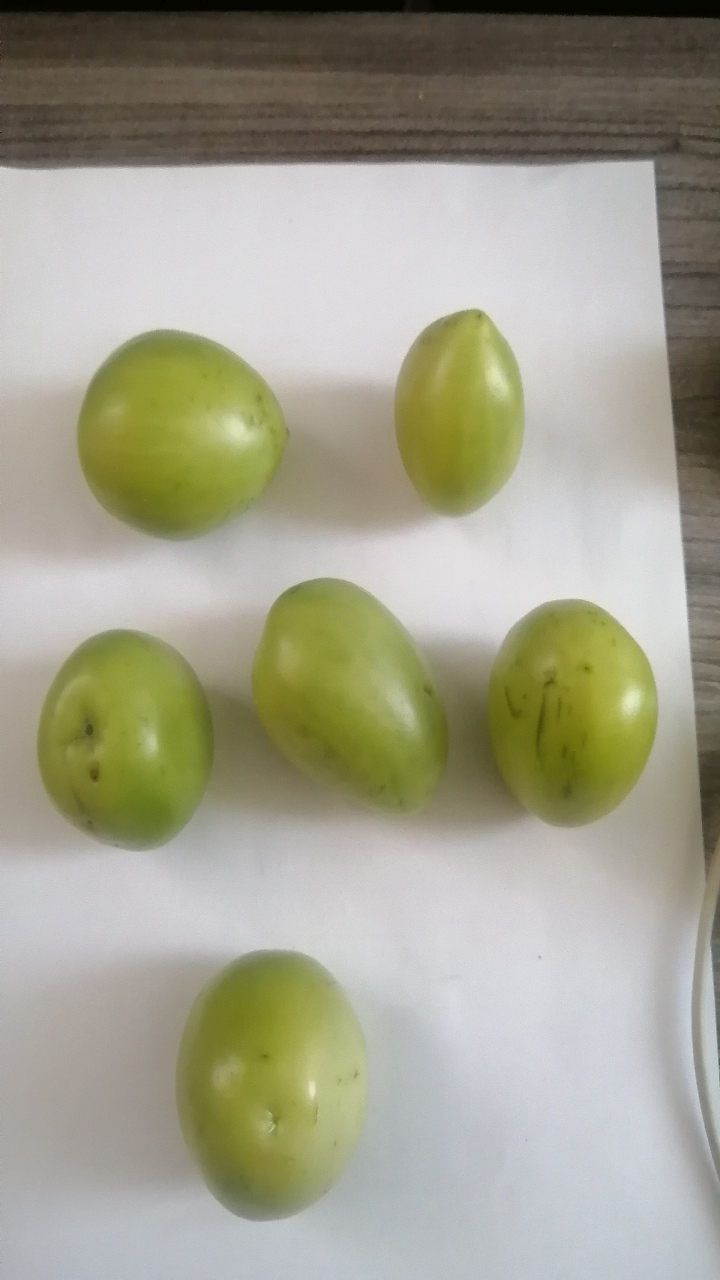tomateVerde: (154, 935, 392, 1231), (63, 308, 338, 557), (238, 557, 455, 846), (468, 582, 678, 843), (11, 619, 223, 871), (374, 297, 555, 535)
